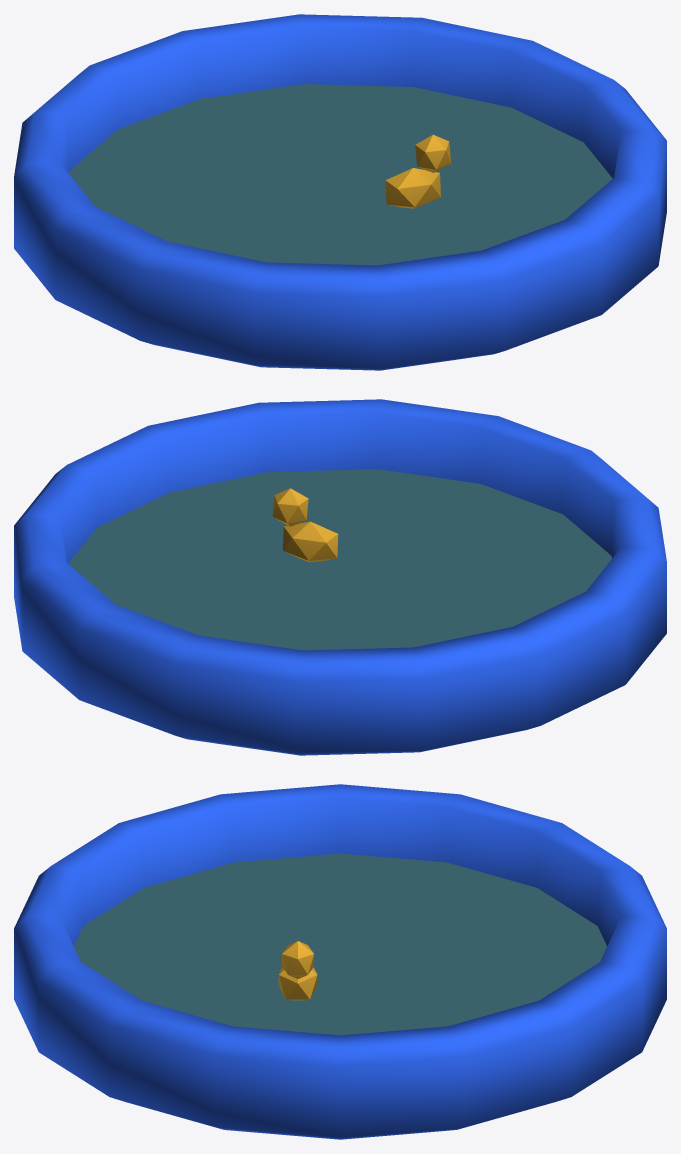
3 views of the same model, one above another, from view 1: azimuth 30°, elevation 25°; view 2: azimuth 150°, elevation 25°; view 3: azimuth 270°, elevation 25° (orthographic).
Parts seen in each view (by area): view 1: root_pal_policeBlue, root_pal_poloLight, root_pal_schoolBusYellow; view 2: root_pal_policeBlue, root_pal_poloLight, root_pal_schoolBusYellow; view 3: root_pal_policeBlue, root_pal_poloLight, root_pal_schoolBusYellow.
Part boxes in pixels (left/top/right/bottom): root_pal_policeBlue: left=14, top=14, right=666, bottom=370; root_pal_poloLight: left=69, top=84, right=612, bottom=265; root_pal_schoolBusYellow: left=385, top=134, right=450, bottom=208; root_pal_policeBlue: left=14, top=399, right=666, bottom=755; root_pal_poloLight: left=68, top=469, right=611, bottom=650; root_pal_schoolBusYellow: left=272, top=488, right=338, bottom=562; root_pal_policeBlue: left=14, top=784, right=666, bottom=1139; root_pal_poloLight: left=74, top=853, right=606, bottom=1035; root_pal_schoolBusYellow: left=278, top=941, right=317, bottom=1000.
Size of the model in its own units: 2 by 0.355 by 2.
